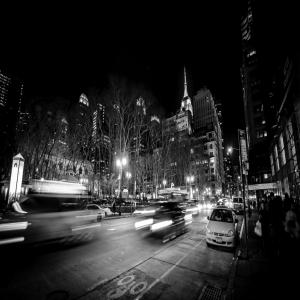Vehicle-registration-plate: (216, 237, 223, 243)
